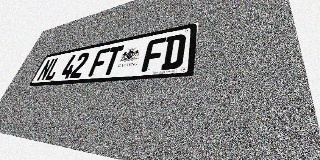2: (69, 51, 91, 78)
4: (59, 54, 80, 79)
D: (160, 33, 186, 70)
F: (141, 37, 166, 72), (88, 48, 111, 77)
L: (44, 57, 64, 81)
N: (36, 58, 55, 81)
T: (101, 45, 124, 75)
